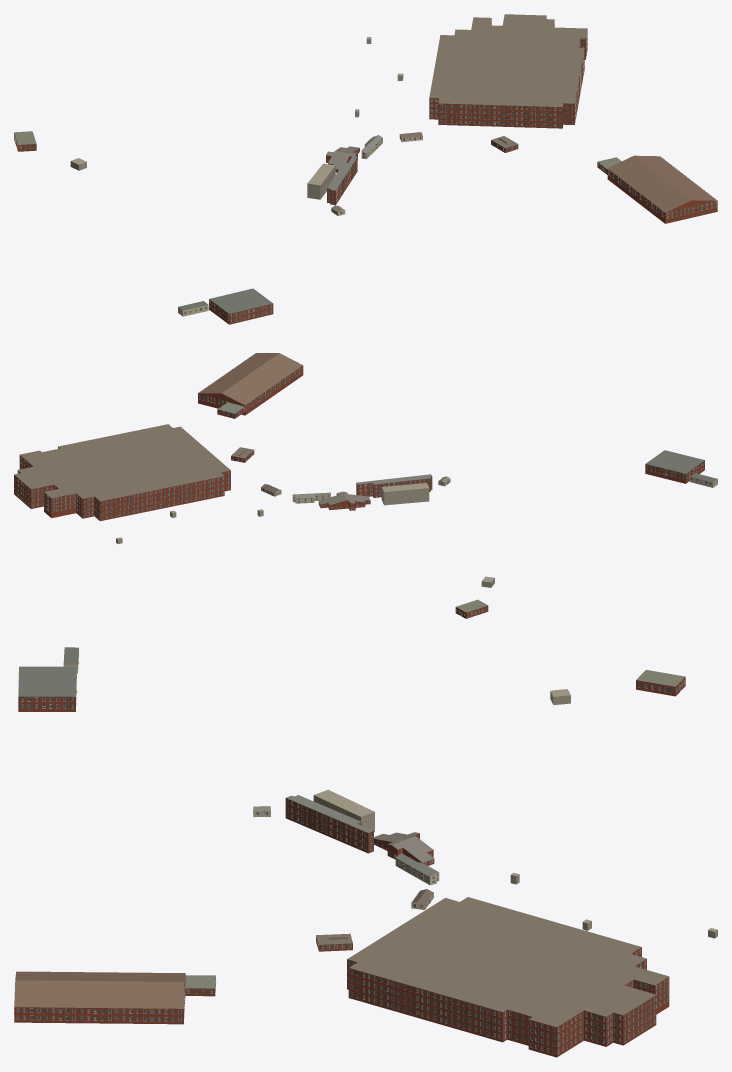
The picture shows the model from 3 angles, top to bottom: view 1: azimuth 30°, elevation 25°; view 2: azimuth 150°, elevation 25°; view 3: azimuth 270°, elevation 25°; orthographic projection. The views are drawn at different scales.
Visible parts, largest first — view 1: -4_1_271954267_0, -4_1_318249786_2; view 2: -4_1_271954267_0, -4_1_318249786_2; view 3: -4_1_271954267_0, -4_1_318249786_2.
Part boxes in pixels (left/top/right/bottom): -4_1_271954267_0: left=14, top=14, right=717, bottom=324; -4_1_318249786_2: left=178, top=134, right=422, bottom=316; -4_1_271954267_0: left=14, top=353, right=717, bottom=618; -4_1_318249786_2: left=261, top=476, right=717, bottom=503; -4_1_271954267_0: left=14, top=647, right=717, bottom=1057; -4_1_318249786_2: left=63, top=650, right=439, bottom=909.
Size of the model in its own units: 516 by 23.04 by 385.
